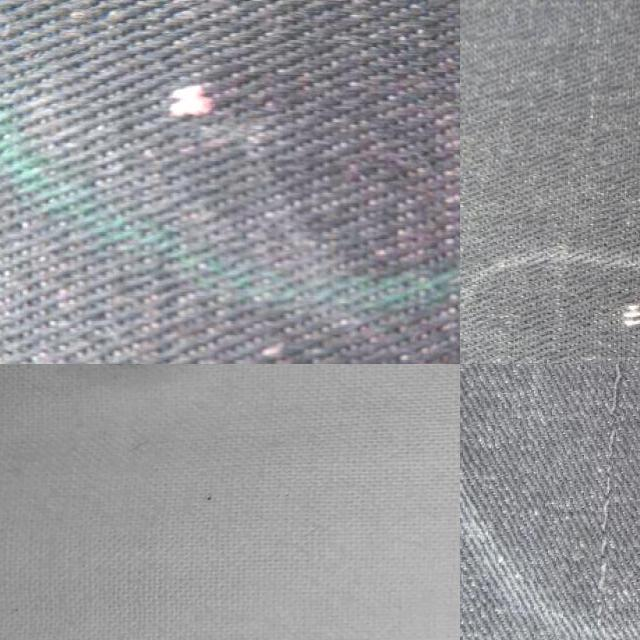Thread_other: (164, 452, 264, 536), (77, 364, 197, 400)
stains: (106, 0, 396, 191), (558, 364, 640, 571), (567, 282, 640, 364)
